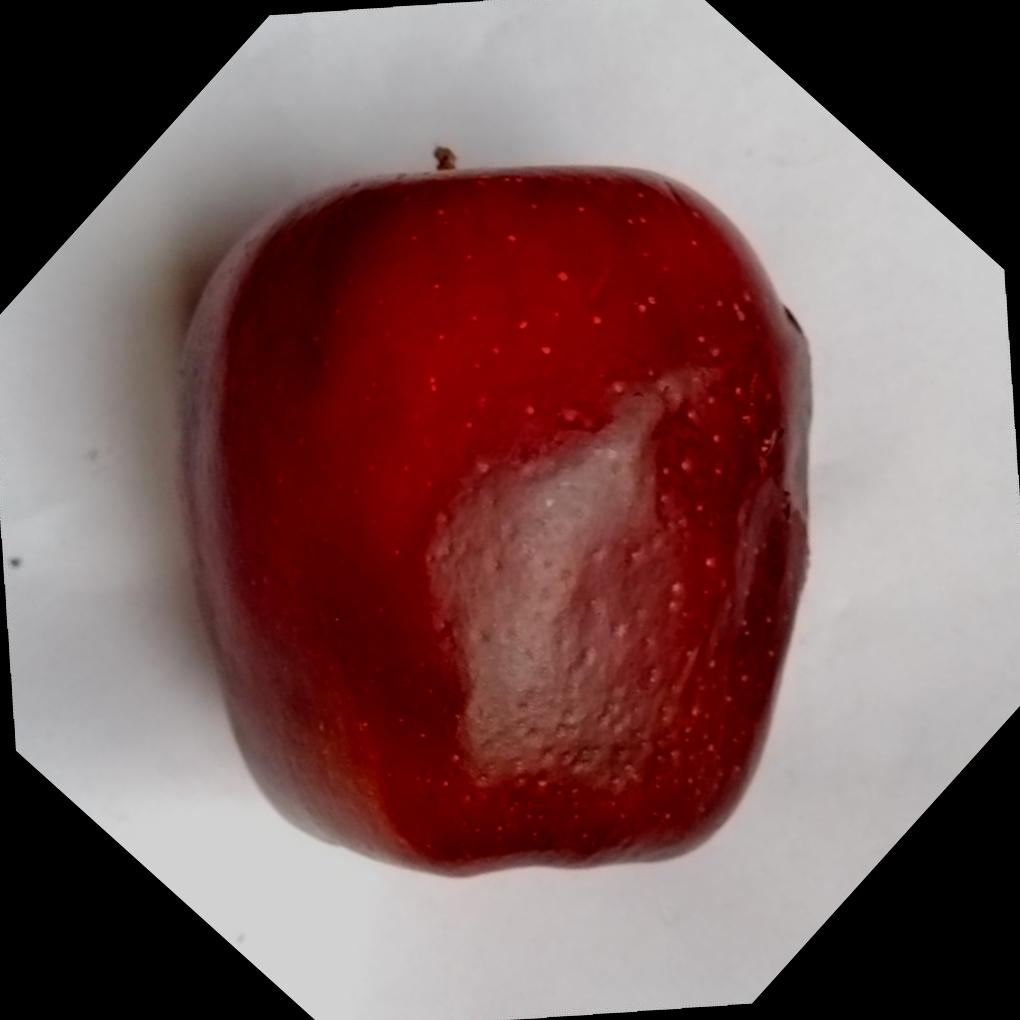FreshOrange: (168, 163, 818, 887)
